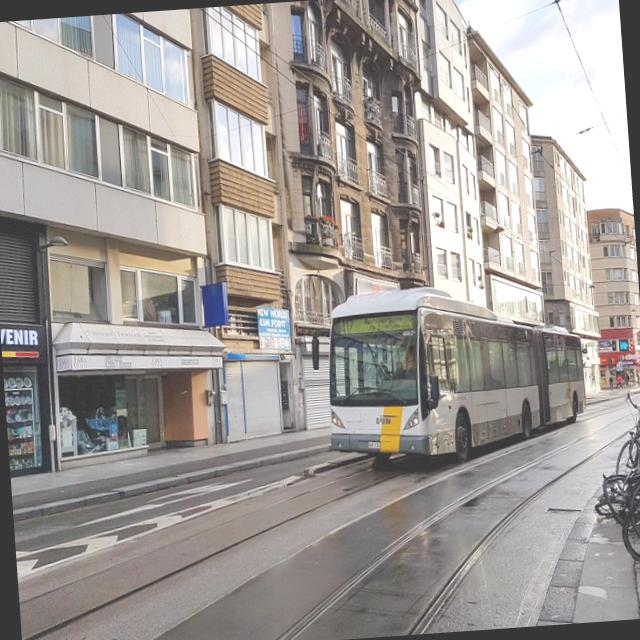bus-number: (339, 320, 354, 334)
